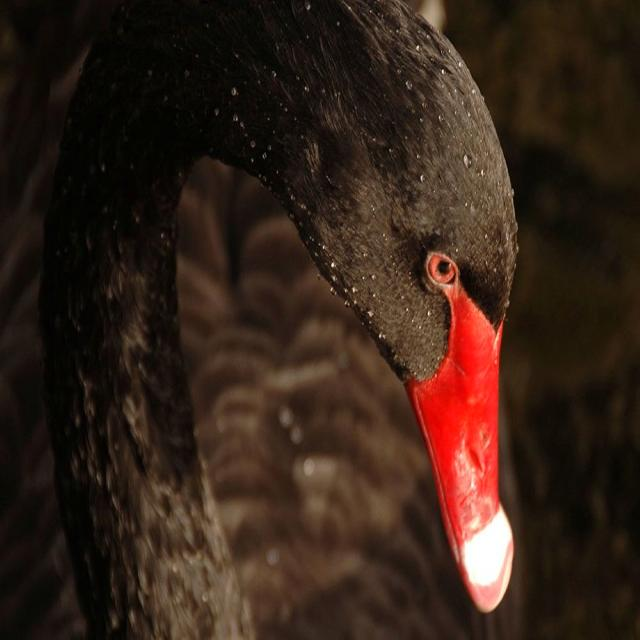swan: (40, 0, 518, 639)
